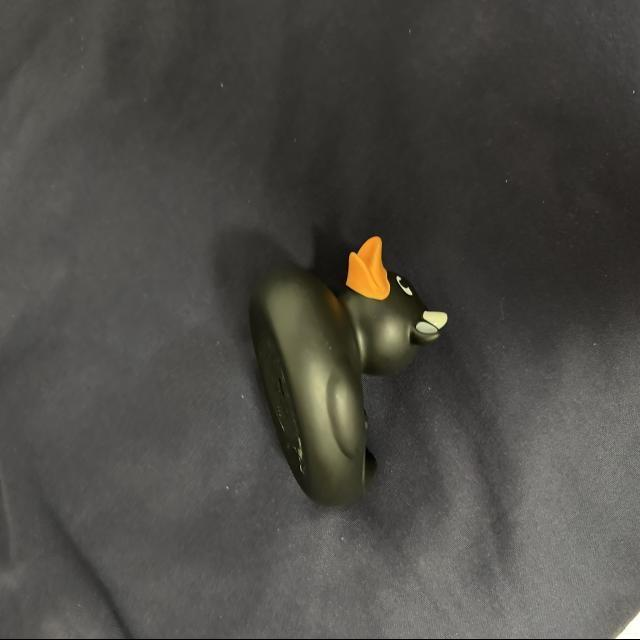rubber-duck: (249, 235, 445, 503)
